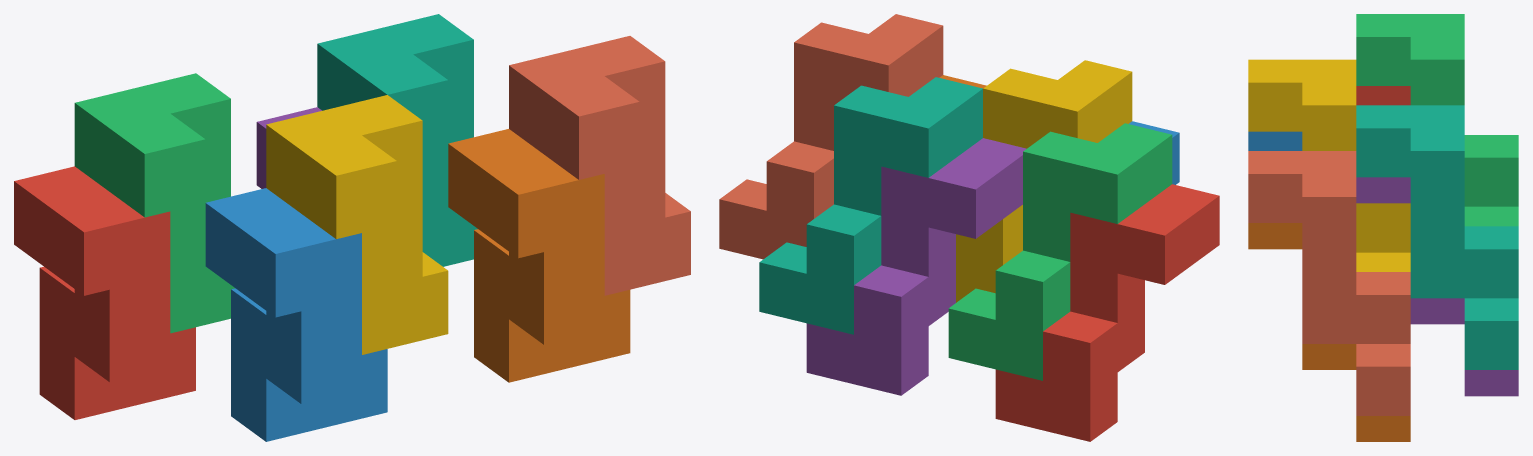
The model's file is tiling.obj.
3 renders of one model, left to right at view 1: azimuth 30°, elevation 25°; view 2: azimuth 150°, elevation 25°; view 3: azimuth 270°, elevation 25°, orthographic. The views are drawn at different scales.
Visible parts, largest first — view 1: copy_1_domain_1, copy_1_domain_2, copy_1_domain_6, copy_1_domain_8, copy_1_domain_4, copy_1_domain_3, copy_1_domain_7, copy_1_domain_5; view 2: copy_1_domain_1, copy_1_domain_5, copy_1_domain_3, copy_1_domain_7, copy_1_domain_8, copy_1_domain_4, copy_1_domain_2; view 3: copy_1_domain_7, copy_1_domain_8, copy_1_domain_3, copy_1_domain_4, copy_1_domain_5, copy_1_domain_6, copy_1_domain_1, copy_1_domain_2.
Part boxes in pixels (x1=…): copy_1_domain_1: x1=14, y1=166, x2=195, y2=419; copy_1_domain_2: x1=205, y1=188, x2=387, y2=441; copy_1_domain_6: x1=448, y1=129, x2=630, y2=382; copy_1_domain_8: x1=509, y1=36, x2=690, y2=295; copy_1_domain_4: x1=266, y1=95, x2=448, y2=354; copy_1_domain_3: x1=74, y1=73, x2=234, y2=333; copy_1_domain_7: x1=317, y1=14, x2=477, y2=266; copy_1_domain_5: x1=256, y1=107, x2=321, y2=188; copy_1_domain_1: x1=995, y1=184, x2=1219, y2=441; copy_1_domain_5: x1=806, y1=138, x2=1026, y2=395; copy_1_domain_3: x1=948, y1=123, x2=1172, y2=380; copy_1_domain_7: x1=759, y1=77, x2=982, y2=334; copy_1_domain_8: x1=719, y1=14, x2=943, y2=259; copy_1_domain_4: x1=956, y1=60, x2=1132, y2=302; copy_1_domain_2: x1=1129, y1=121, x2=1179, y2=184; copy_1_domain_7: x1=1356, y1=105, x2=1518, y2=369; copy_1_domain_8: x1=1248, y1=151, x2=1410, y2=415; copy_1_domain_3: x1=1356, y1=14, x2=1518, y2=226; copy_1_domain_4: x1=1248, y1=59, x2=1410, y2=271; copy_1_domain_5: x1=1356, y1=177, x2=1518, y2=396; copy_1_domain_6: x1=1248, y1=223, x2=1410, y2=441; copy_1_domain_1: x1=1356, y1=86, x2=1410, y2=105; copy_1_domain_2: x1=1248, y1=131, x2=1302, y2=150.
Size of the model in its own units: 10 by 5 by 5.
